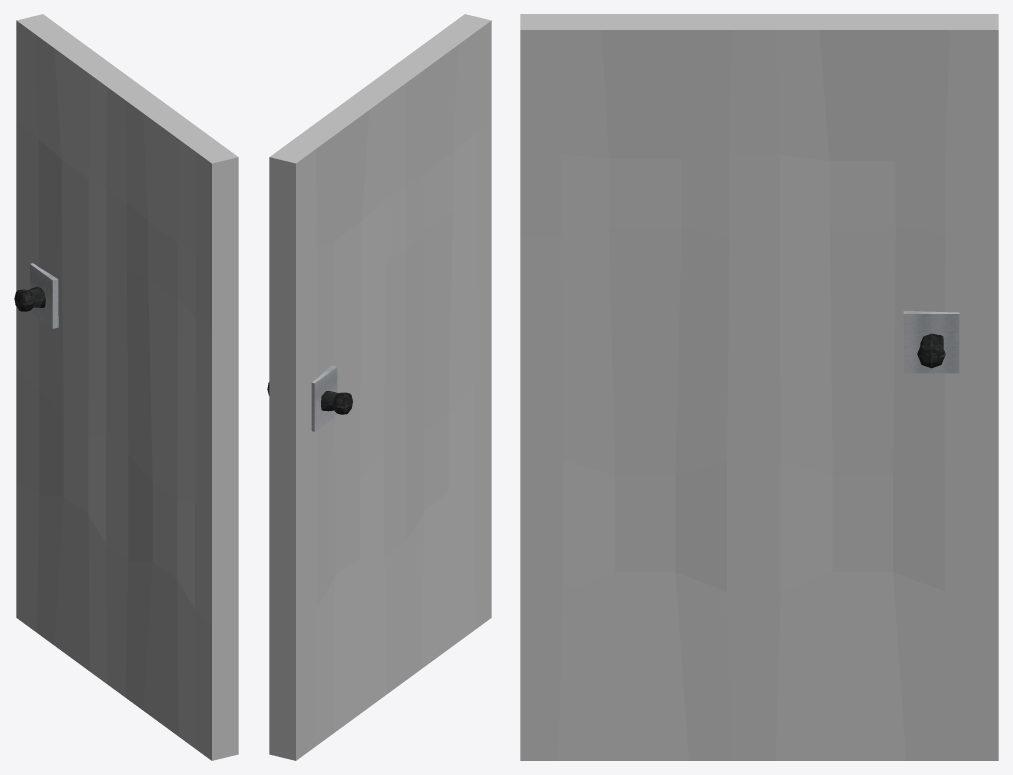
File: KeyDoor2.fbx
The picture shows the model from 3 angles, left to right: view 1: azimuth 30°, elevation 25°; view 2: azimuth 150°, elevation 25°; view 3: azimuth 270°, elevation 25°; orthographic projection. The views are drawn at different scales.
Visible parts, largest first — view 1: Cube.001, Cube, Cube.002; view 2: Cube.001, Cube, Cube.002; view 3: Cube.001, Cube.
Boxes of the visible parts, x1,y1,x2,y2 form: Cube.001: (16,14,238,760); Cube: (30,263,58,328); Cube.002: (14,286,45,311); Cube.001: (269,14,491,760); Cube: (311,365,337,431); Cube.002: (267,382,352,414); Cube.001: (520,14,998,760); Cube: (903,310,959,373).
Bounding box in the file's own units: 185 × 1332 × 790.
